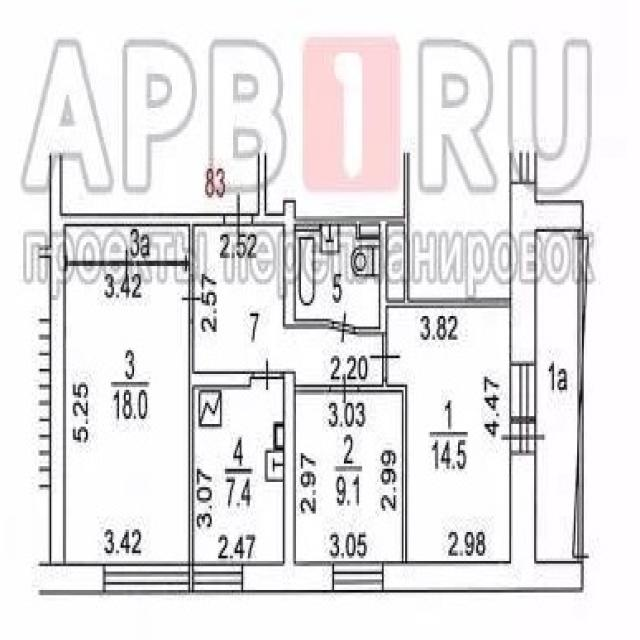Bathrooms: (295, 226, 379, 326)
Corridors: (193, 227, 383, 382), (536, 232, 577, 562), (66, 225, 188, 259)
Doors: (65, 247, 189, 281), (499, 420, 546, 455), (370, 333, 401, 380), (224, 193, 252, 242), (178, 273, 202, 322), (253, 357, 284, 391), (328, 372, 358, 403), (331, 311, 356, 344)
LBwalls: (384, 454, 585, 593), (242, 371, 333, 593), (509, 184, 585, 362), (49, 154, 66, 564), (37, 563, 103, 596), (283, 200, 296, 328), (193, 371, 251, 386), (189, 563, 193, 594)
Offices: (66, 267, 187, 562), (388, 309, 509, 560), (297, 395, 402, 560), (192, 381, 284, 562)
Walls: (295, 152, 510, 336), (62, 213, 224, 274), (358, 379, 408, 563), (570, 232, 592, 564), (251, 151, 283, 226), (188, 322, 193, 561), (295, 319, 330, 329), (295, 384, 329, 394), (38, 246, 50, 258), (250, 370, 255, 380)
Windows: (104, 562, 189, 594), (333, 560, 384, 592), (509, 362, 537, 420), (193, 563, 244, 593), (508, 150, 537, 184)
